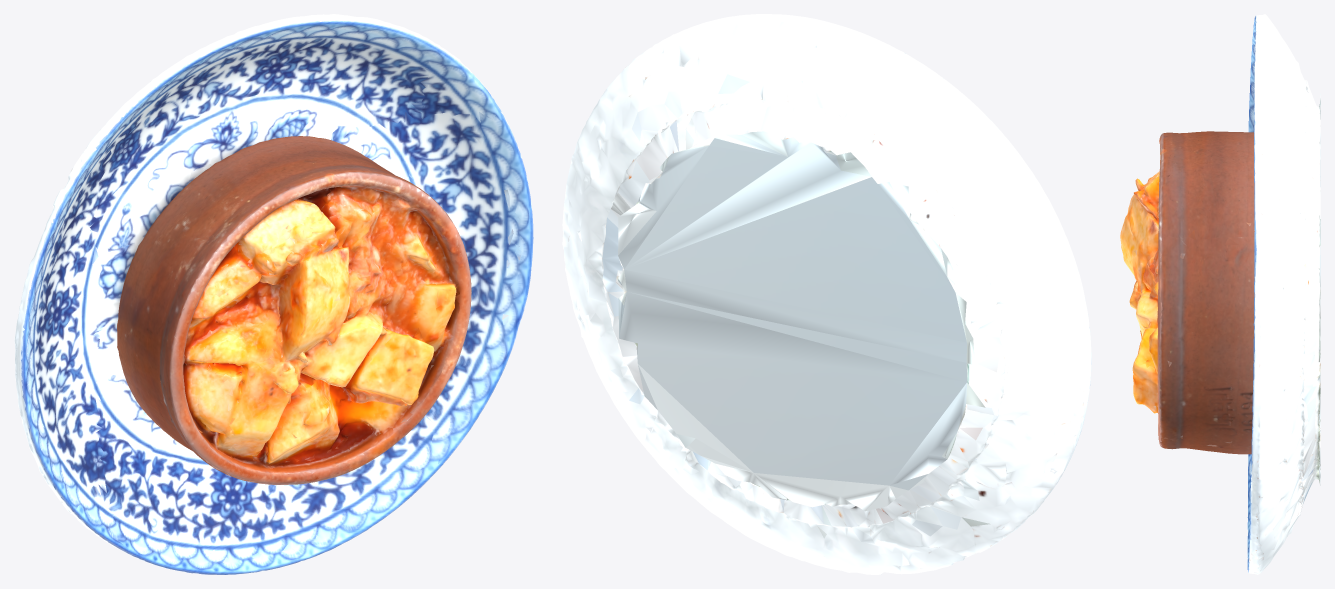
The picture shows the model from 3 angles, left to right: view 1: azimuth 30°, elevation 25°; view 2: azimuth 150°, elevation 25°; view 3: azimuth 270°, elevation 25°; orthographic projection. The views are drawn at different scales.
Visible parts, largest first — view 1: Object_10; view 2: Object_10; view 3: Object_10.
Boxes of the visible parts, bbox=[...] form: Object_10: bbox=[14, 14, 533, 574]; Object_10: bbox=[562, 14, 1091, 574]; Object_10: bbox=[1120, 14, 1320, 574].
Size of the model in its own units: 35.75 by 35.71 by 12.75.
1 material, 1 textured.
